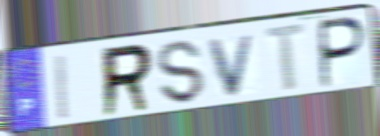I: (55, 53, 72, 123)
P: (319, 15, 369, 92)
R: (100, 41, 155, 120)
S: (155, 39, 207, 107)
T: (262, 20, 311, 96)
V: (207, 31, 259, 99)
